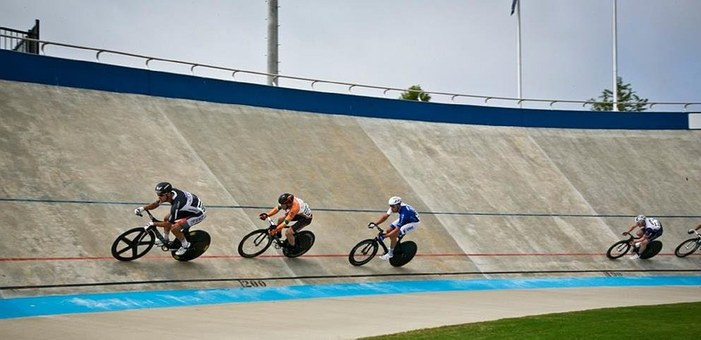bikerider: (116, 178, 214, 269), (237, 180, 327, 272)
